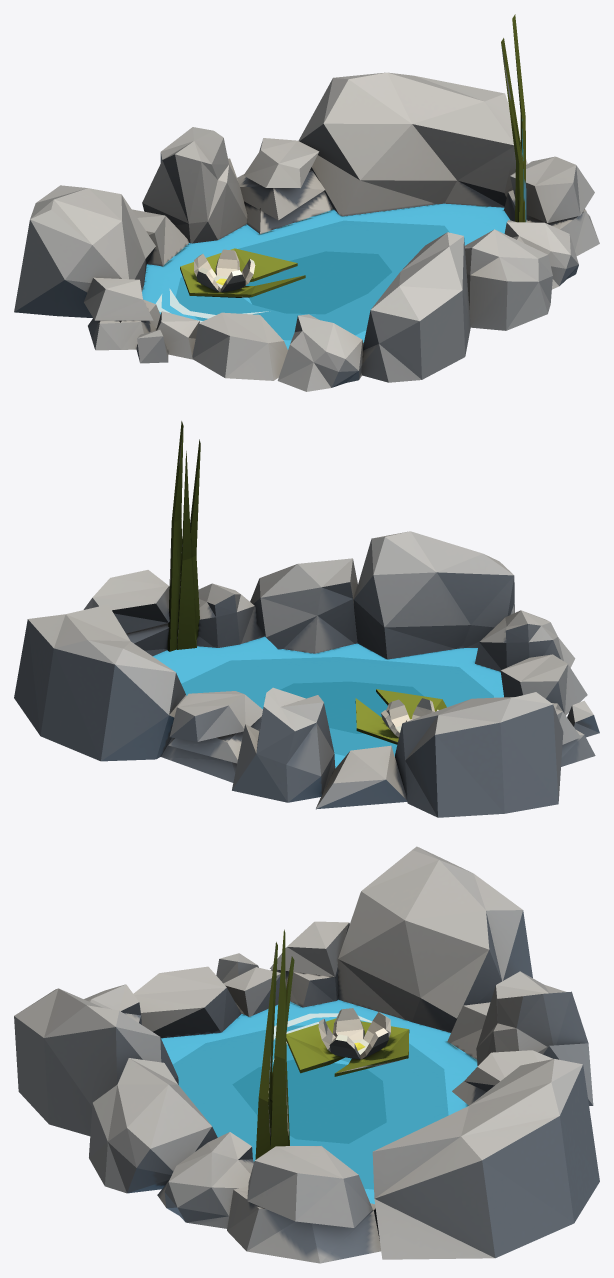
Rendered from PUSHILIN_pond.fbx.
The picture shows the model from 3 angles, top to bottom: view 1: azimuth 30°, elevation 25°; view 2: azimuth 150°, elevation 25°; view 3: azimuth 270°, elevation 25°; orthographic projection. The views are drawn at different scales.
Visible parts, largest first — view 1: default; view 2: default; view 3: default.
Boxes of the visible parts, left/top/right/bottom form: default: left=14, top=14, right=599, bottom=391; default: left=14, top=421, right=599, bottom=817; default: left=14, top=846, right=599, bottom=1263.
Size of the model in its own units: 2.19 by 0.929 by 1.75.
